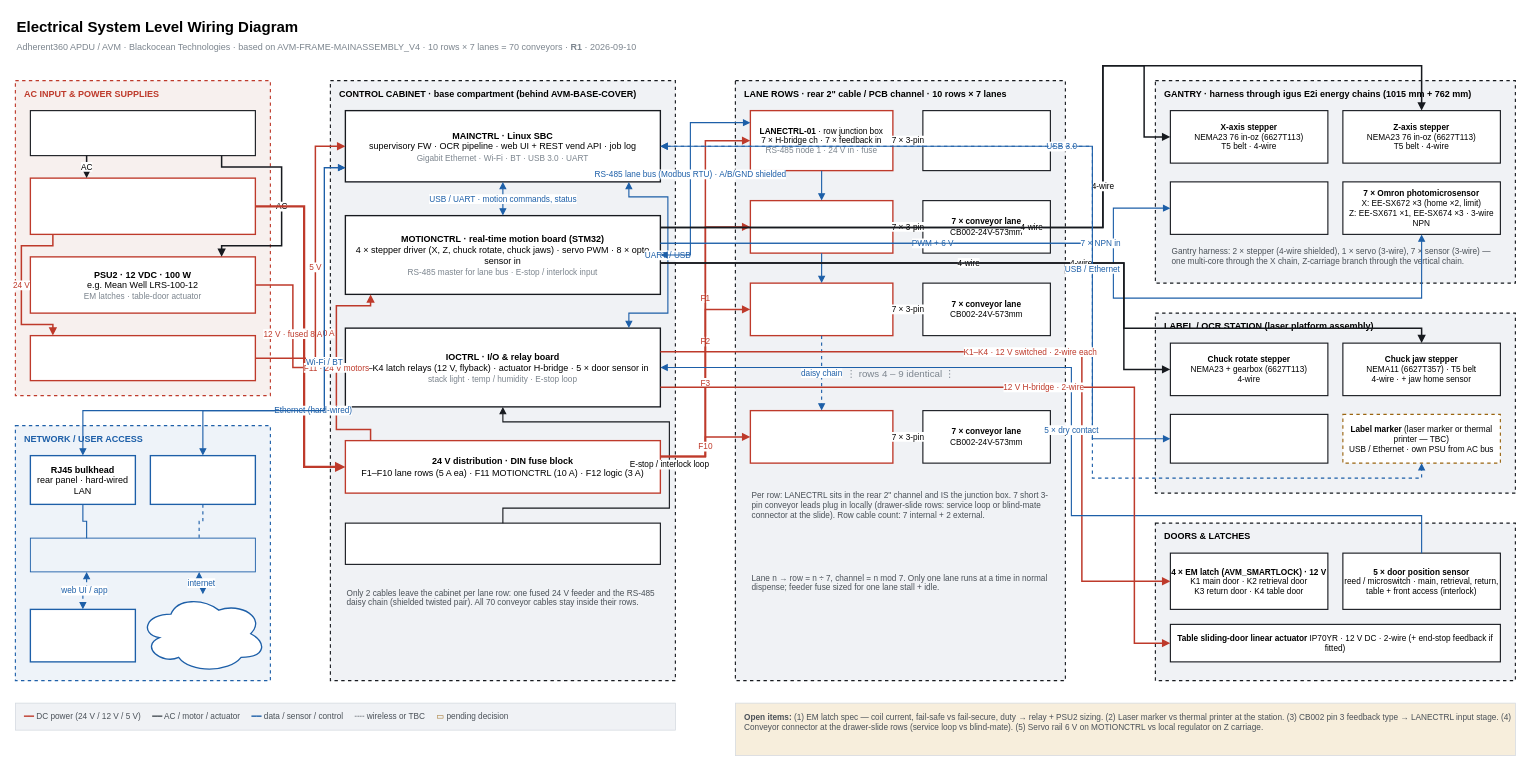
The diagram is 1529 pixels wide and 769 high, and some of its shapes have lost their labels. Here are the shapes that lost their labels. From the top down, the centre of each, then its label:
At (x=142, y=133): "AC inlet · EMI filter · main breaker 120 / 230 VAC · IEC C14 + PE".
At (x=986, y=140): "7 × conveyor lane CB002-24V-573mm 3-pin: motor +/− · feedback".
At (x=142, y=206): "PSU1 · 24 VDC · 500 W e.g. Mean Well RSP-500-24 steppers · lanes · logic".
At (x=821, y=226): "LANECTRL-02 · row junction box RS-485 node 2".
At (x=1248, y=208): "Basket tilt servo DS3218MG 270° · 6–7.4 V · PWM 3-wire (on Z carriage)".
At (x=821, y=309): "LANECTRL-03 · row junction box RS-485 node 3".
At (x=142, y=358): "DC-DC 24 → 5 V · 5 A SBC · camera · logic".
At (x=821, y=436): "LANECTRL-10 · row junction box RS-485 node 10 · 120 Ω termination".
At (x=1248, y=438): "OCR camera USB 3.0 · + ring light (24 V)".
At (x=202, y=480): "Wi-Fi / BT antenna bulkhead SMA".
At (x=142, y=554): "Pharmacy LAN / router".
At (x=502, y=543): "E-stop · service switch inside front access door · stack light".
At (x=82, y=635): "iPad (not integrated) Adherent app / web browser".
At (x=202, y=633): "Adherent servers internet · vend API".
